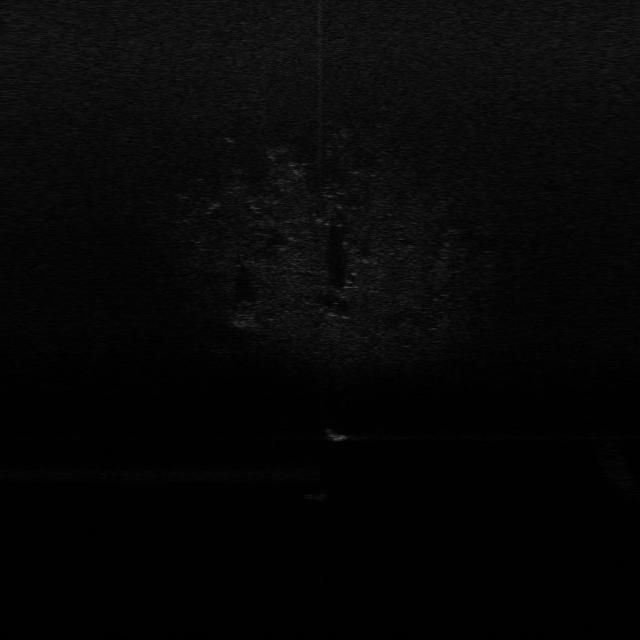cube: (298, 483, 336, 505)
square cage: (323, 420, 357, 445)
